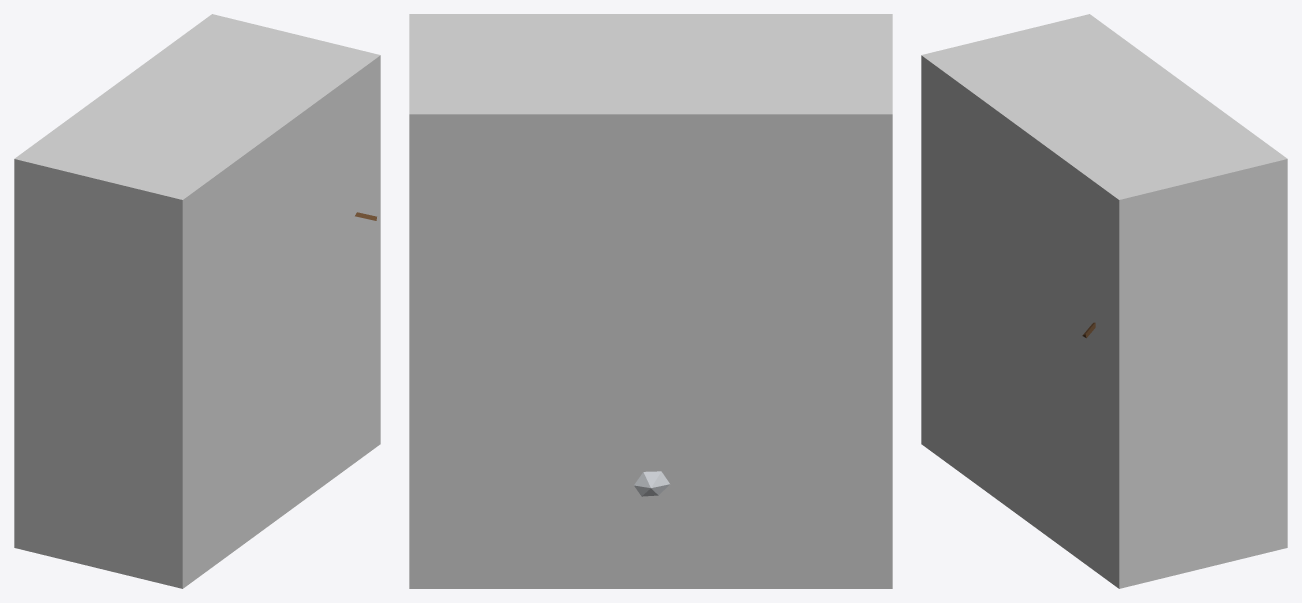
Rendered from tundra_cursed_snowman.fbx.
The picture shows the model from 3 angles, left to right: view 1: azimuth 30°, elevation 25°; view 2: azimuth 150°, elevation 25°; view 3: azimuth 270°, elevation 25°; orthographic projection. The views are drawn at different scales.
Parts seen in each view (by area): view 1: Root__0.00_2.50_-0.03__4.61_5.00_2.27; view 2: Root__0.00_2.50_-0.03__4.61_5.00_2.27, Body__Root__0.00_1.12_0.00; view 3: Root__0.00_2.50_-0.03__4.61_5.00_2.27.
Boxes of the visible parts, x1,y1,x2,y2 form: Root__0.00_2.50_-0.03__4.61_5.00_2.27: (14,14,380,588); Root__0.00_2.50_-0.03__4.61_5.00_2.27: (409,14,892,588); Body__Root__0.00_1.12_0.00: (634,471,669,496); Root__0.00_2.50_-0.03__4.61_5.00_2.27: (921,14,1287,588).
Bounding box in the file's own units: 144 × 140 × 120.
2 materials, 1 textured.
